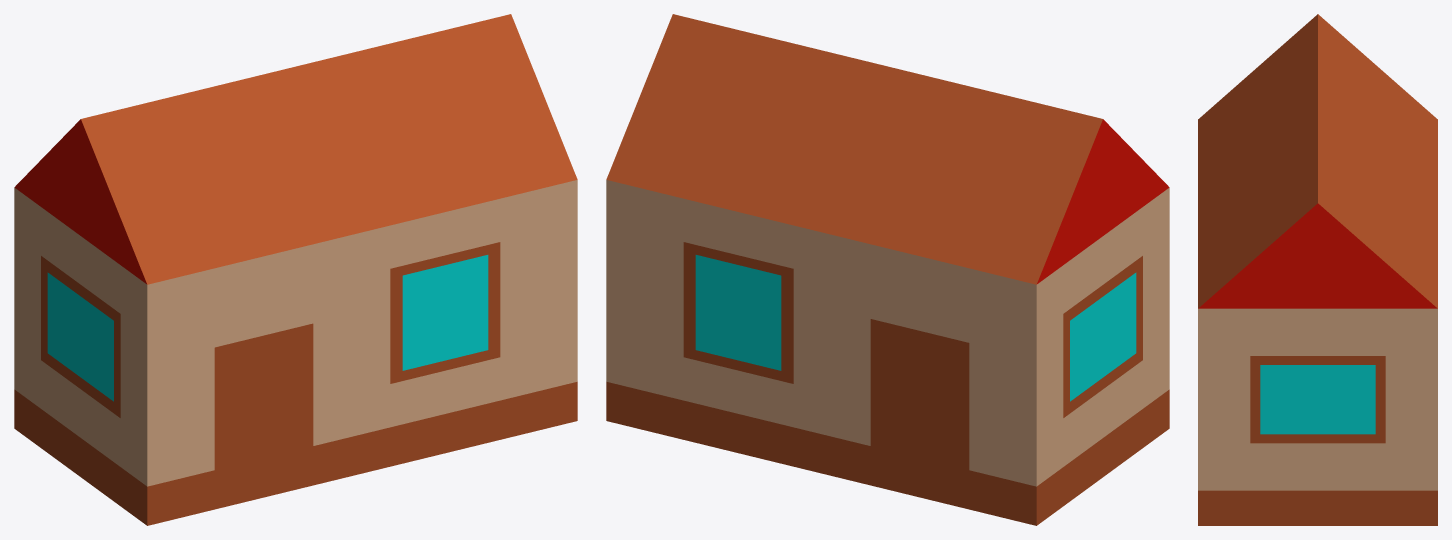
Rendered from house.glb.
3 renders of one model, left to right at view 1: azimuth 30°, elevation 25°; view 2: azimuth 150°, elevation 25°; view 3: azimuth 270°, elevation 25°, orthographic. The views are drawn at different scales.
Visible parts, largest first — view 1: house; view 2: house; view 3: house.
Boxes of the visible parts, x1,y1,x2,y2 form: house: (14, 14, 577, 525); house: (606, 14, 1169, 525); house: (1198, 14, 1437, 525).
Bounding box in the file's own units: 1.06 × 0.8437 × 0.568.
